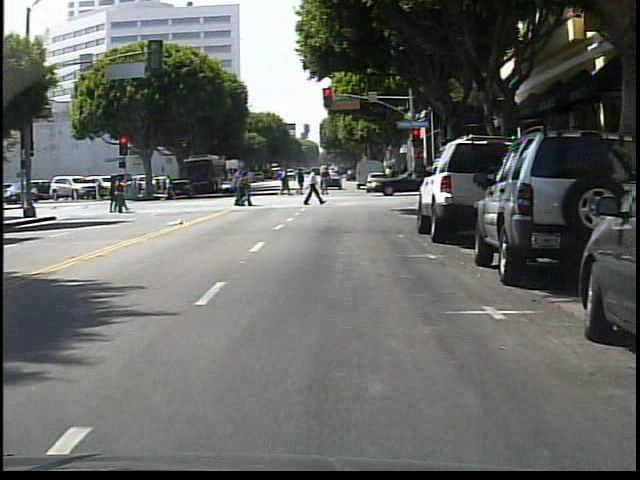person: (302, 166, 324, 211), (160, 170, 180, 200), (319, 167, 336, 196)
